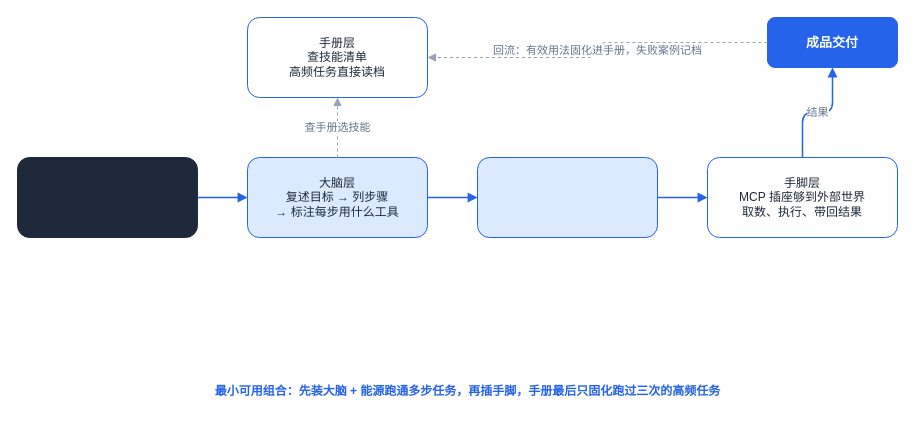
The diagram is 915 pixels wide and 425 high, and some of its shapes have lost their labels. The centre of each missing label's shape, as x and y in pixels:
任务进来 （多步骤 + 要用外部工具才值得上流水线）: point 107,197
能源层 按难度选档位 小模型/大模型分流: point 567,197
